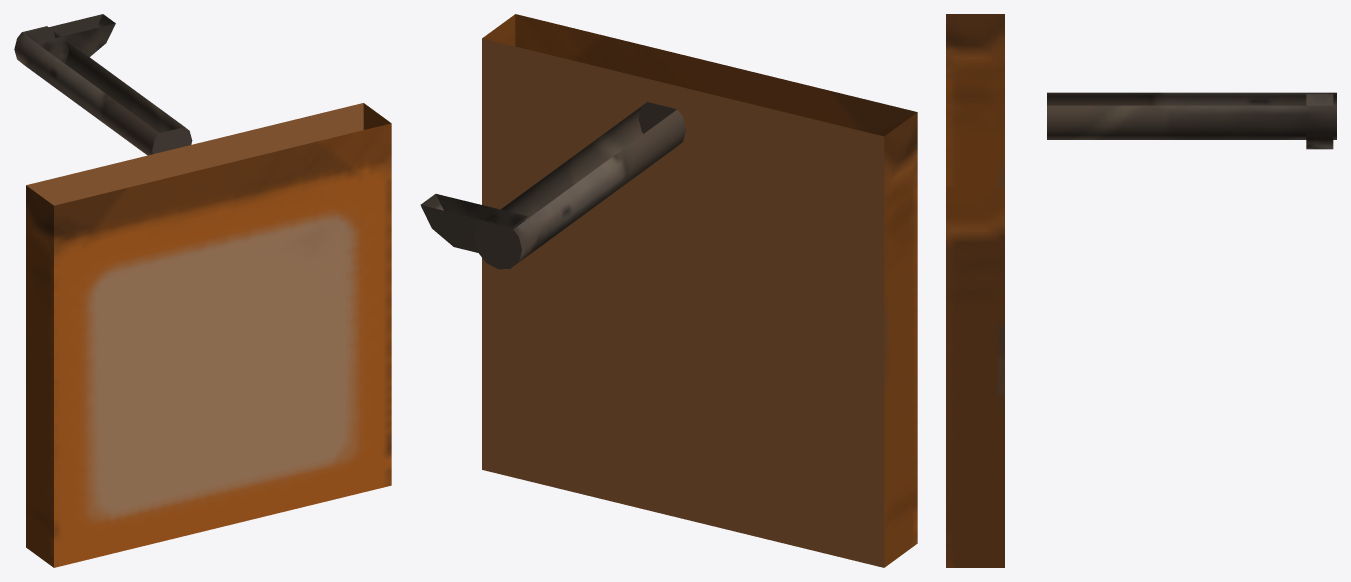
Rendered from section-3.obj.
The picture shows the model from 3 angles, left to right: view 1: azimuth 30°, elevation 25°; view 2: azimuth 150°, elevation 25°; view 3: azimuth 270°, elevation 25°; orthographic projection. The views are drawn at different scales.
Size of the model in its own units: 0.9324 by 0.9559 by 0.8889.
Materials: 1 (1 with a texture image).
